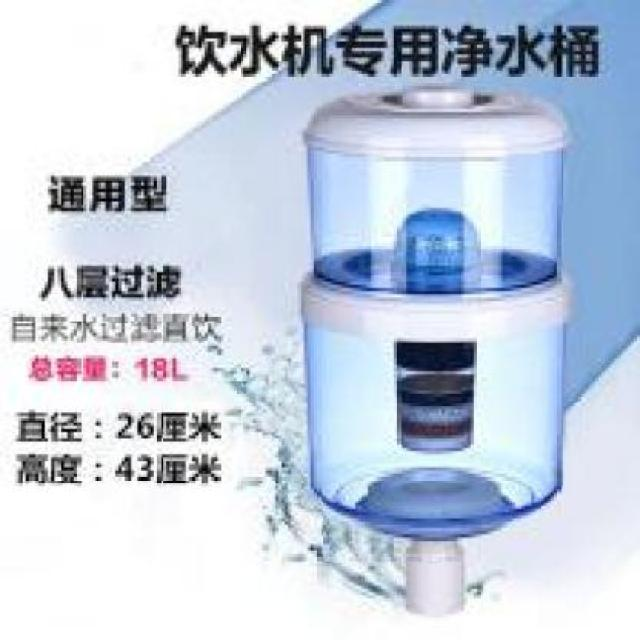coolerbottle: (289, 83, 581, 548)
